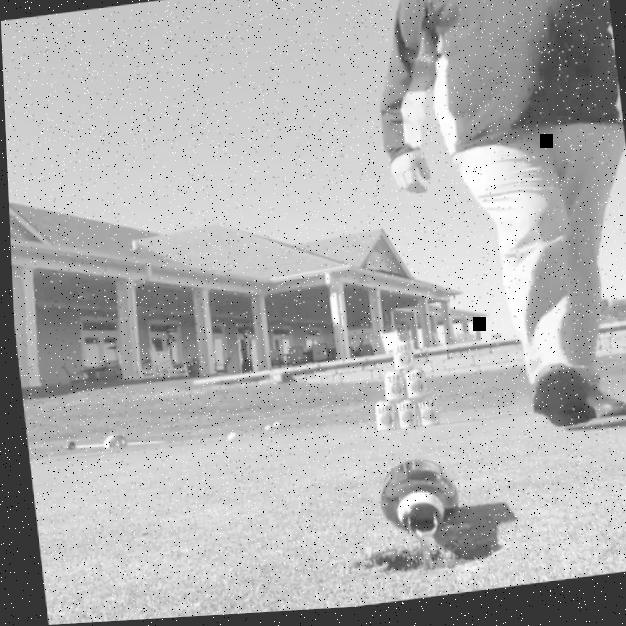GolfBall: (222, 434, 235, 444), (260, 427, 269, 435), (269, 424, 276, 430)
